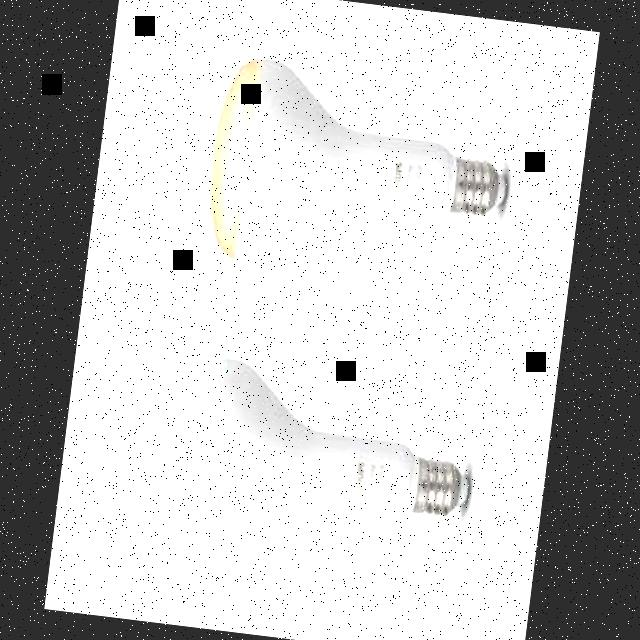light_bulb: (194, 54, 521, 301), (152, 358, 478, 596)
